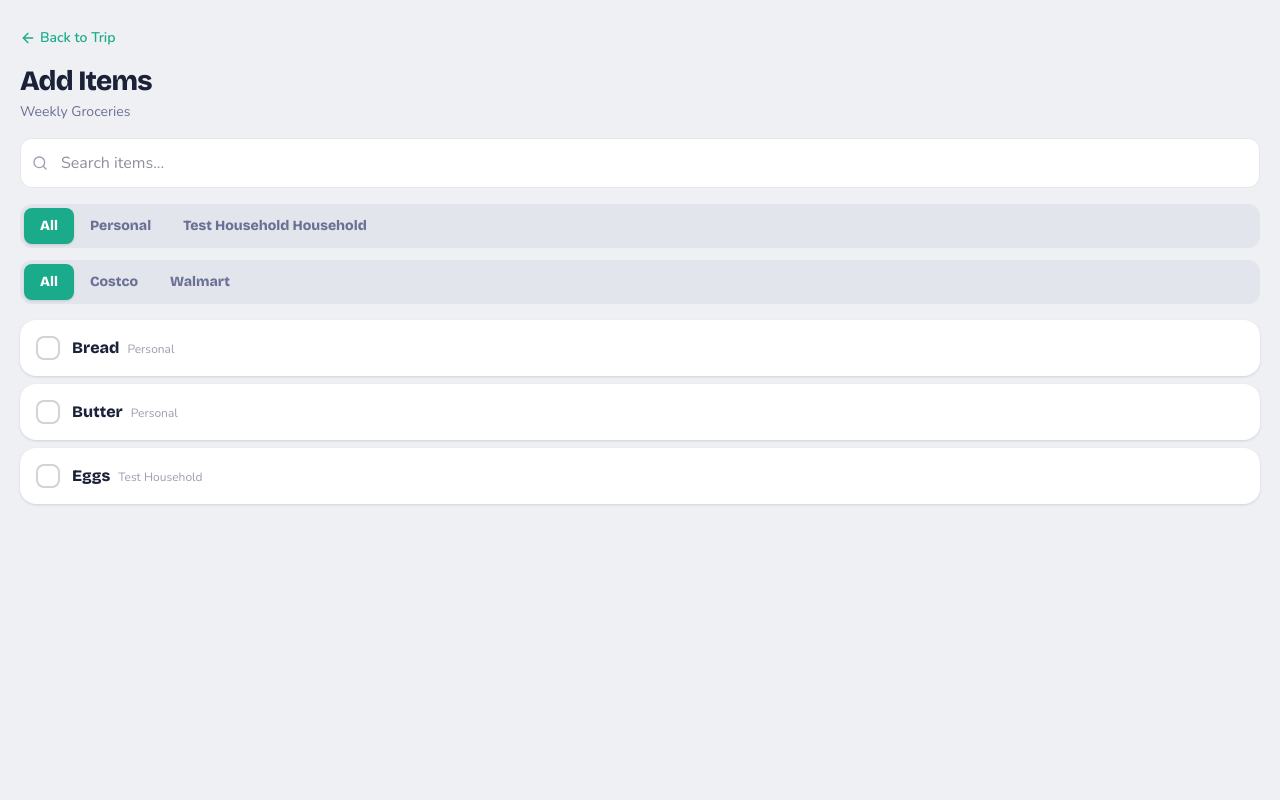
Test: AddTripItemsPage › shows store dropdown with empty value when item has no default store
Click the text "Eggs": (91,476) [72,466,110,485]
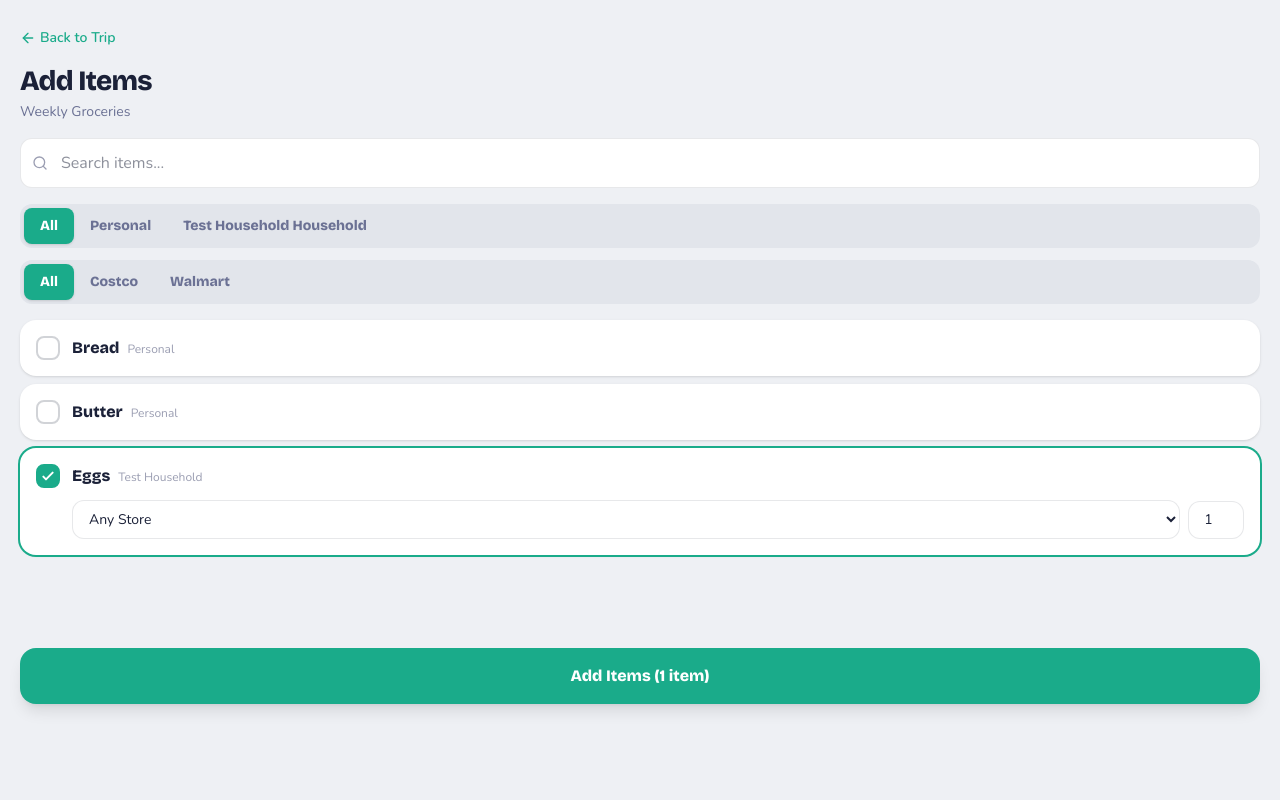
Check: the dropdown named "Store" shows "Any Store", box [72,500,1180,539]
